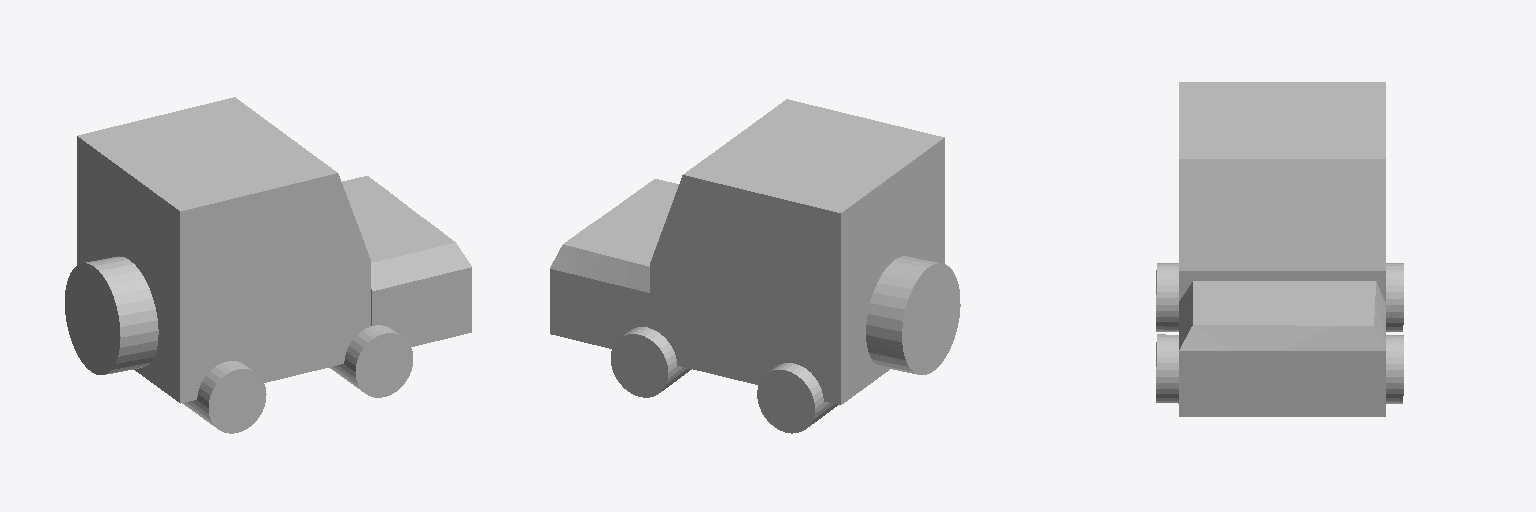
The model's file is jimny.obj.
3 renders of one model, left to right at view 1: azimuth 30°, elevation 25°; view 2: azimuth 150°, elevation 25°; view 3: azimuth 270°, elevation 25°, orthographic.
Visible parts, largest first — view 1: Cube, Cube.001, Cylinder.car, Cylinder.000_Cylinder.002, Cylinder.002_Cylinder.003; view 2: Cube, Cube.001, Cylinder.car, Cylinder.003_Cylinder.004, Cylinder.001; view 3: Cube, Cube.001, Cylinder.002_Cylinder.003, Cylinder.000_Cylinder.002, Cylinder.001, Cylinder.003_Cylinder.004.
Part boxes in pixels (x1,y1,x2,y2): Cube: (77,97,370,403); Cube.001: (342,176,471,346); Cylinder.car: (65,256,158,374); Cylinder.000_Cylinder.002: (329,325,412,397); Cylinder.002_Cylinder.003: (182,361,266,433); Cube: (650,99,944,404); Cube.001: (550,179,678,348); Cylinder.car: (866,256,960,374); Cylinder.003_Cylinder.004: (611,327,691,397); Cylinder.001: (757,363,837,433); Cube: (1179,82,1385,301); Cube.001: (1179,281,1385,416); Cylinder.002_Cylinder.003: (1156,263,1178,331); Cylinder.000_Cylinder.002: (1156,334,1178,403); Cylinder.001: (1386,263,1403,331); Cylinder.003_Cylinder.004: (1386,335,1403,403).
Size of the model in its own units: 6.7 by 4.34 by 4.36.